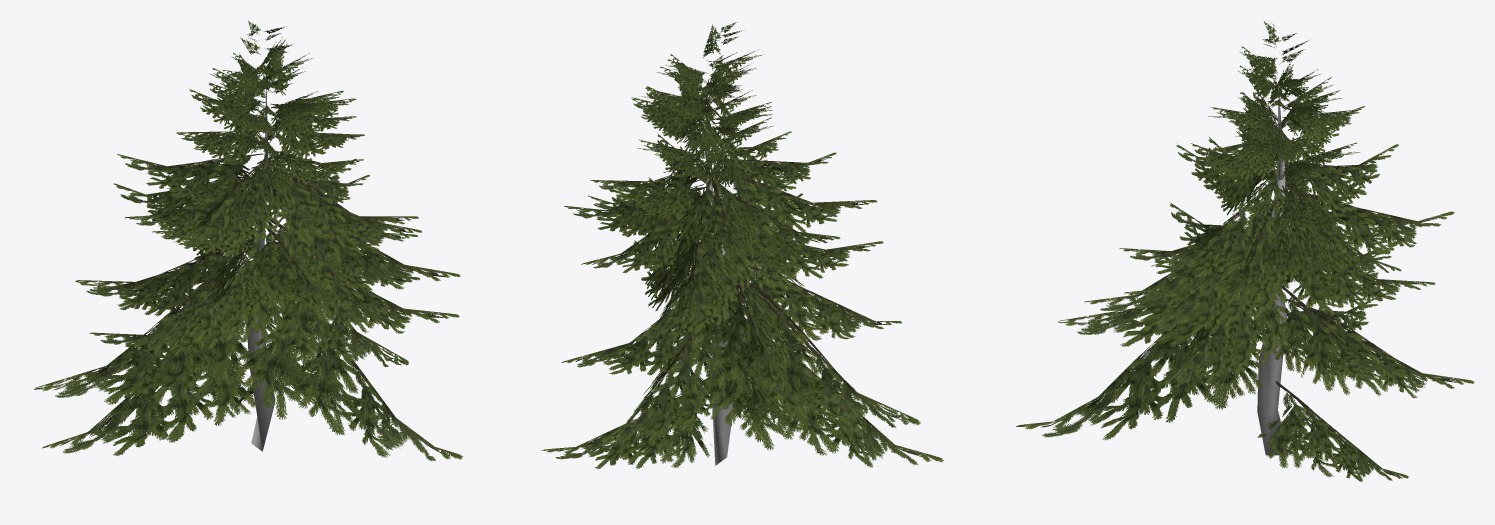
The model's file is spruce2 lod1.FBX.
The picture shows the model from 3 angles, left to right: view 1: azimuth 30°, elevation 25°; view 2: azimuth 150°, elevation 25°; view 3: azimuth 270°, elevation 25°; orthographic projection. The views are drawn at different scales.
Visible parts, largest first — view 1: spruce2_LOD1; view 2: spruce2_LOD1; view 3: spruce2_LOD1.
Part boxes in pixels (x1,y1,x2,y2): spruce2_LOD1: (34,20,462,460); spruce2_LOD1: (541,22,943,468); spruce2_LOD1: (1016,21,1474,481).
Size of the model in its own units: 83955 by 90962 by 92284.
